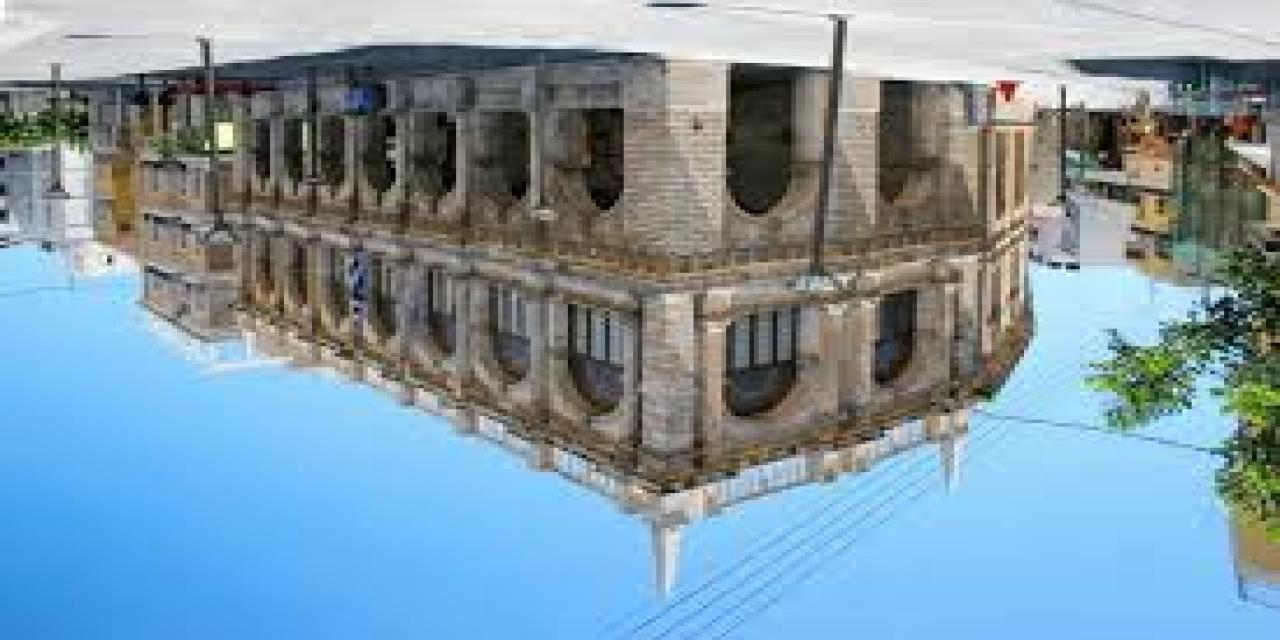Loggia: (241, 62, 1049, 605)
